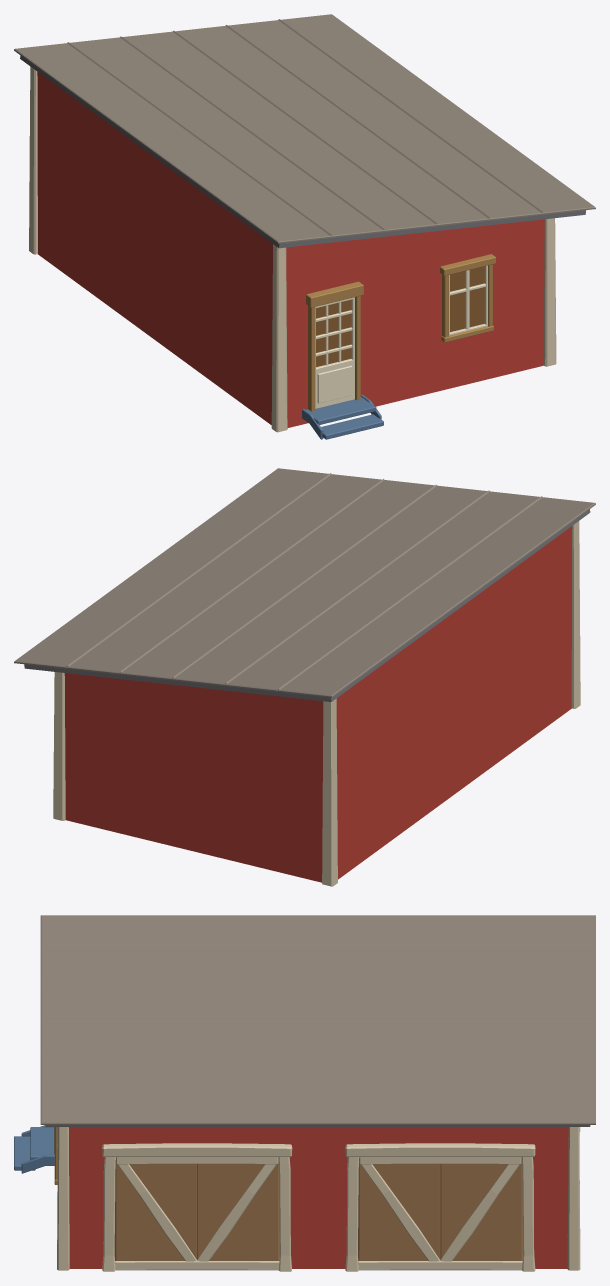
The model's file is garage_a01.gltf.
3 renders of one model, top to bottom at view 1: azimuth 30°, elevation 25°; view 2: azimuth 150°, elevation 25°; view 3: azimuth 270°, elevation 25°, orthographic. The views are drawn at different scales.
Parts seen in each view (by area): view 1: Box1708, Shape029, Box1794, Box1776, Plane058, garage_a01_001, Shape028, Box1779; view 2: Box1708, Shape029, Box1794, Shape028; view 3: Shape029, garage_a01_001, Box1794, Box1708, Box1779, Shape028.
Boxes of the visible parts, x1,y1,x2,y2 form: Box1708: (37,72,544,427); Shape029: (14,14,595,243); Box1794: (29,66,556,432); Box1776: (306,254,495,411); Plane058: (315,265,487,408); garage_a01_001: (316,266,484,367); Shape028: (20,55,585,248); Box1779: (302,394,383,439); Box1708: (64,526,572,882); Shape029: (14,468,595,697); Box1794: (53,521,580,886); Shape028: (24,509,590,701); Shape029: (40,915,595,1124); garage_a01_001: (114,1157,522,1260); Box1794: (57,1127,580,1271); Box1708: (68,1127,568,1268); Box1779: (14,1125,54,1173); Shape028: (45,1125,590,1126).
Size of the model in its own units: 7.57 by 4.54 by 11.4.
Materials: 1 (1 with a texture image).
